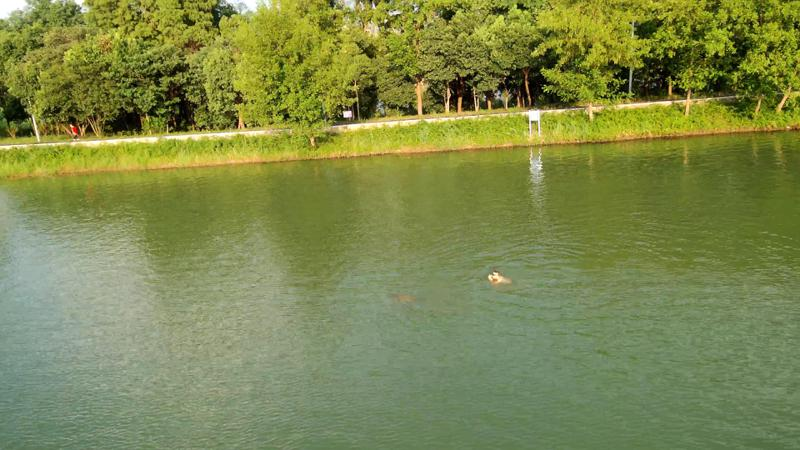passerby: (68, 118, 81, 141)
swimmers: (486, 268, 515, 287)
